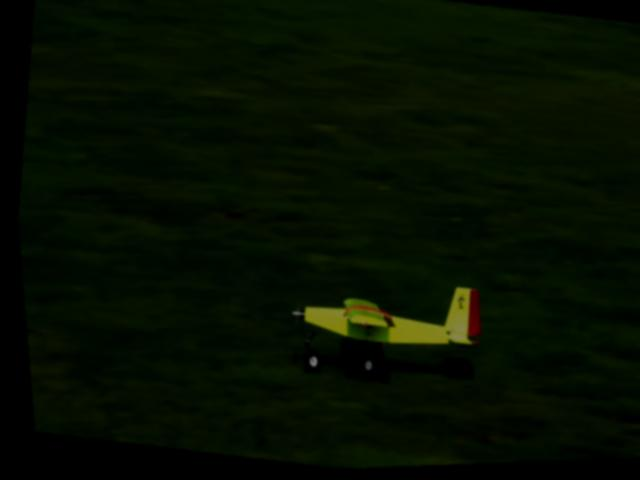plane: (272, 263, 486, 397)
